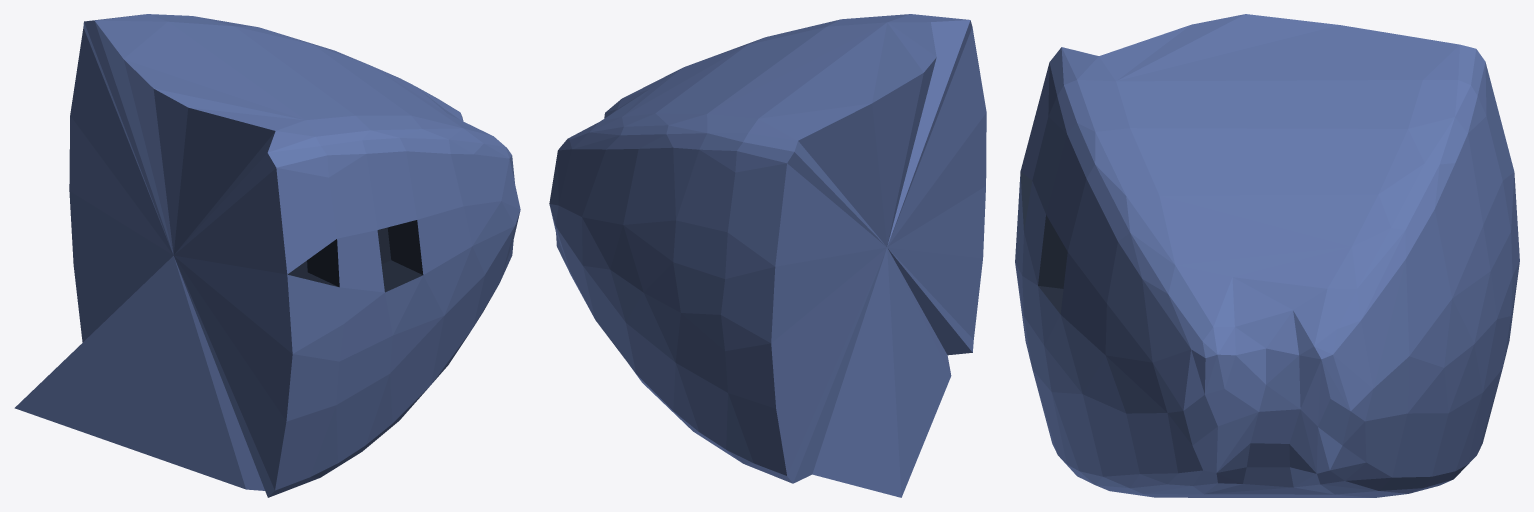
File: parte trasera ocarina nivel 1 .fbx
The picture shows the model from 3 angles, left to right: view 1: azimuth 30°, elevation 25°; view 2: azimuth 150°, elevation 25°; view 3: azimuth 270°, elevation 25°; orthographic projection. The views are drawn at different scales.
Parts seen in each view (by area): view 1: parte trasera ocarina; view 2: parte trasera ocarina; view 3: parte trasera ocarina.
Boxes of the visible parts, <box> form: parte trasera ocarina: <box>14,14,520,497</box>; parte trasera ocarina: <box>549,14,986,497</box>; parte trasera ocarina: <box>1015,14,1519,497</box>.
Size of the model in its own units: 234 by 203 by 225.
